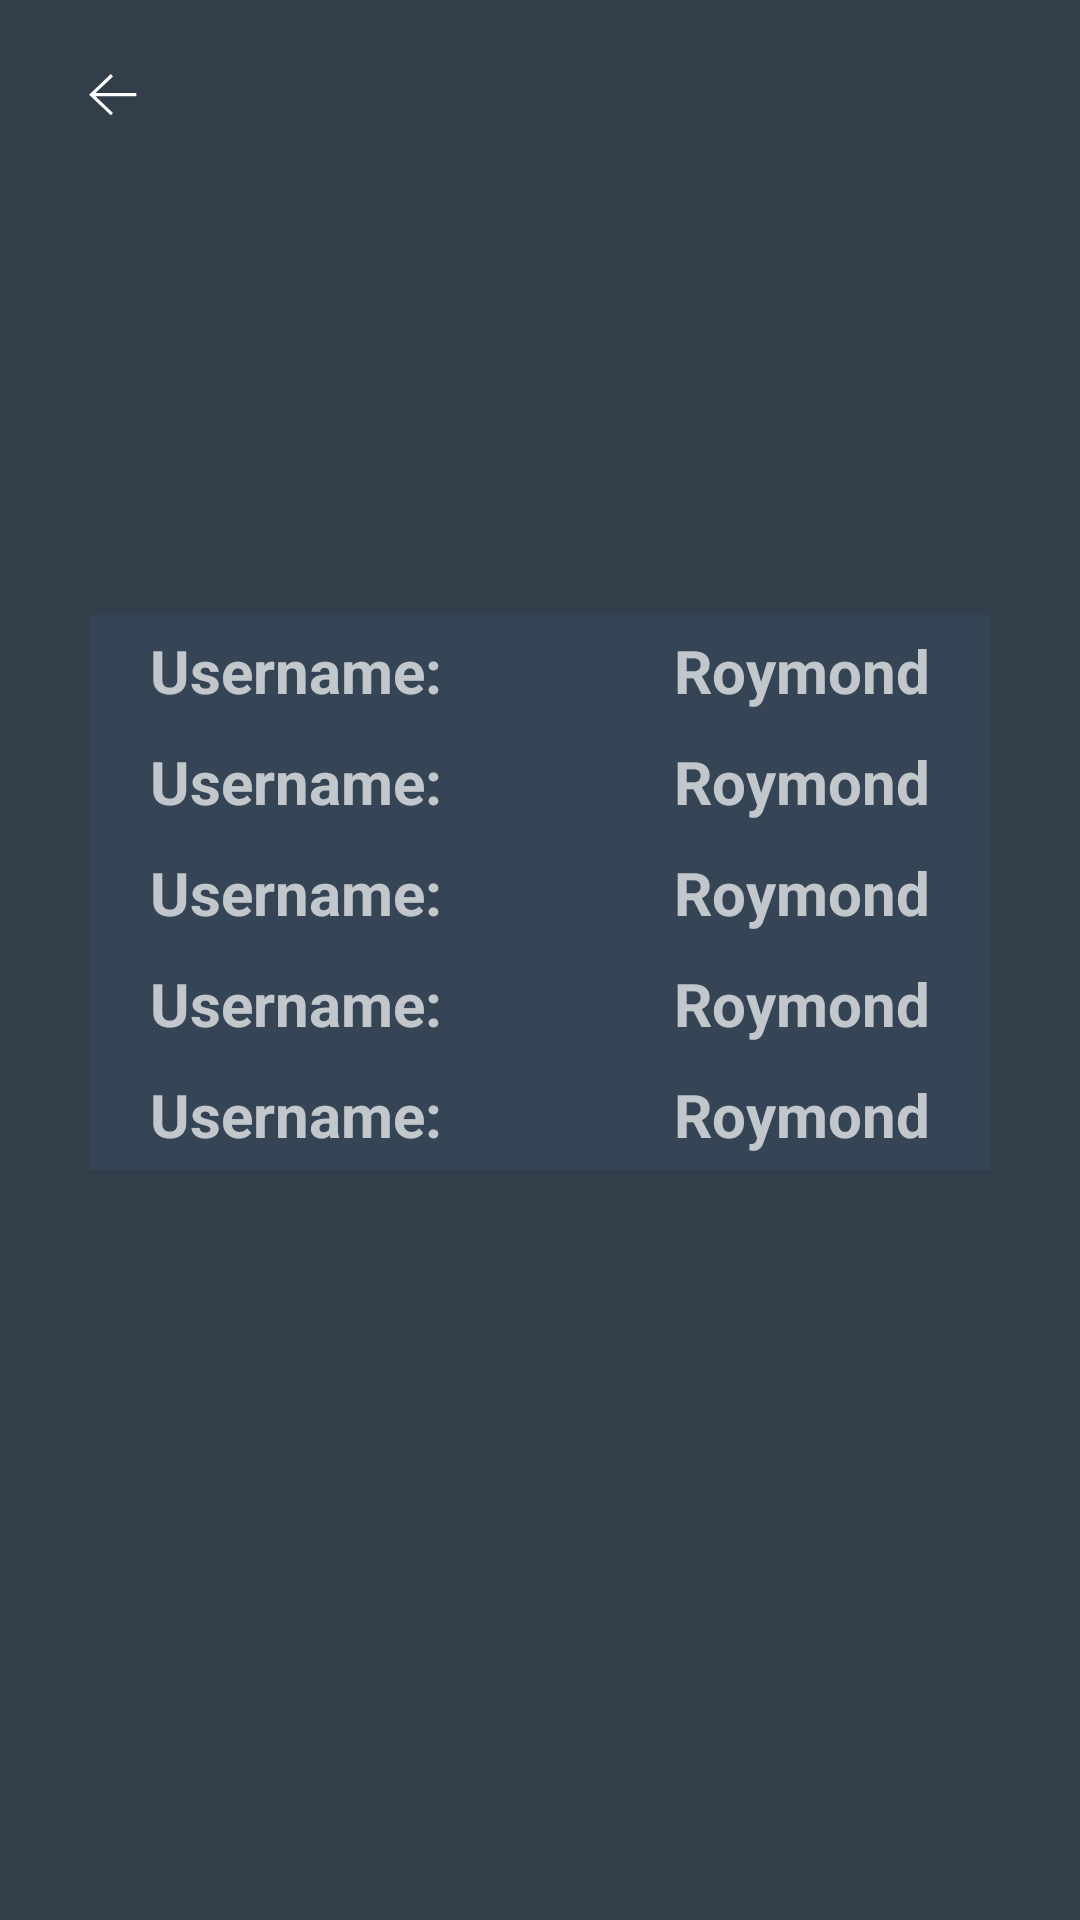

Icons on this 1080*1920 Android screen, each with the point to tap as (x=x, y=y):
back arrow: (x=113, y=94)
